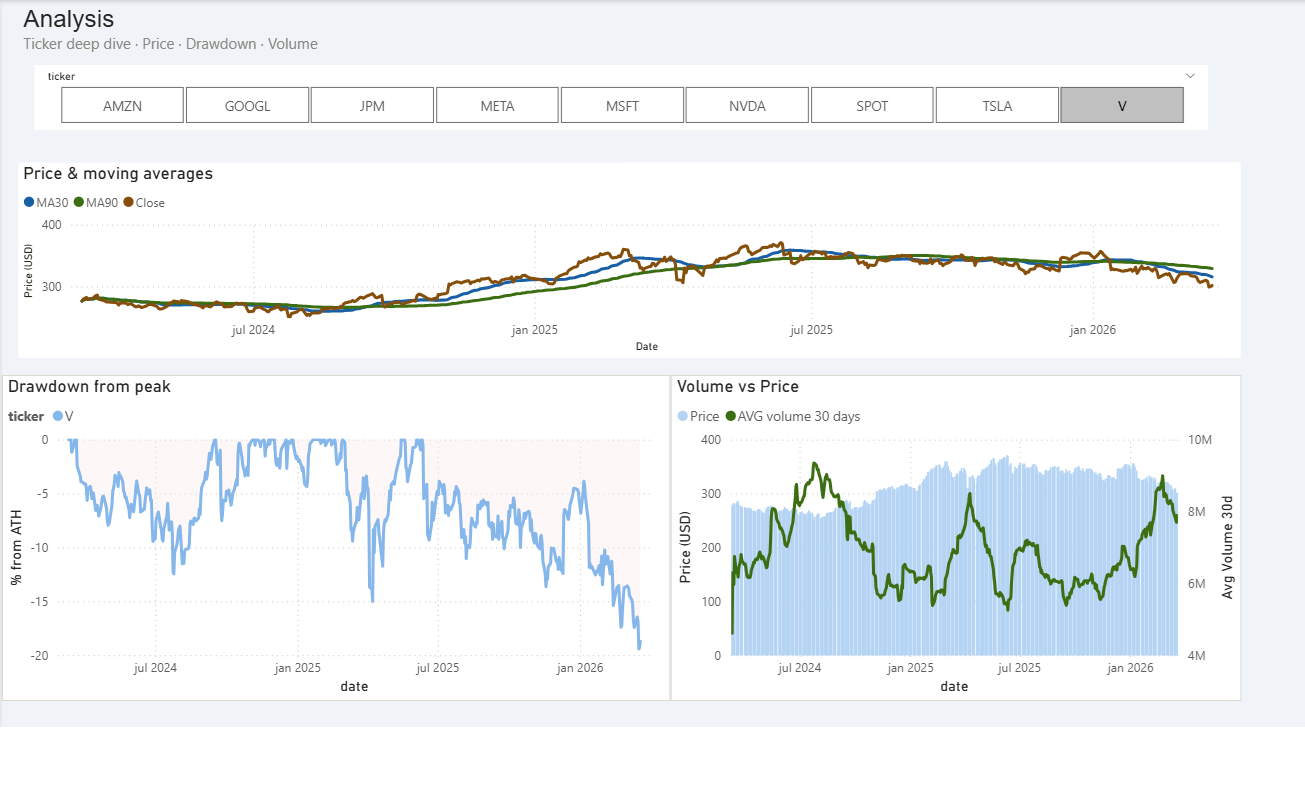

The page's visual inventory and layout, read from the dashboard file:
{"tool":"powerbi","page":{"name":"Analysis","canvas":[1280,720],"ordinal":1},"visuals":[{"type":"lineChart","title":"Price & moving averages","fields":{"Category":["public gold_moving_average.date"],"Y":["Sum(public gold_moving_average.ma_30d)","Sum(public gold_moving_average.ma_90d)","Sum(public gold_moving_average.close)"]},"box":[16,160,1200,192],"z":0},{"type":"slicer","fields":{"Values":["public dim_ticker.ticker"]},"box":[32,64,1152,64],"z":1000},{"type":"areaChart","title":"Drawdown from peak","fields":{"Category":["public gold_drawdown.date"],"Y":["Sum(public gold_drawdown.drawdown_pct)"],"Series":["public gold_drawdown.ticker"]},"box":[0,368,656,320],"z":2000},{"type":"lineStackedColumnComboChart","title":"Volume vs Price","fields":{"Category":["public gold_volume_vs_price.date"],"Y":["Sum(public gold_volume_vs_price.close)"],"Y2":["Sum(public gold_volume_vs_price.avg_volume_30d)"]},"box":[656,368,560,320],"z":3000},{"type":"textbox","box":[16,0,352,64],"z":4000}]}

Visuals, with their boxes on the page's 1280x720 design canvas (x1, y1, x2, y2). These are canvas units, not pixel positions in the 1305x794 screenshot, which may show the page scaled, cropped or inside an application window:
"Price & moving averages" lineChart: [16,160,1216,352]
slicer - public dim_ticker.ticker: [32,64,1184,128]
"Drawdown from peak" areaChart: [0,368,656,688]
"Volume vs Price" lineStackedColumnComboChart: [656,368,1216,688]
textbox: [16,0,368,64]
